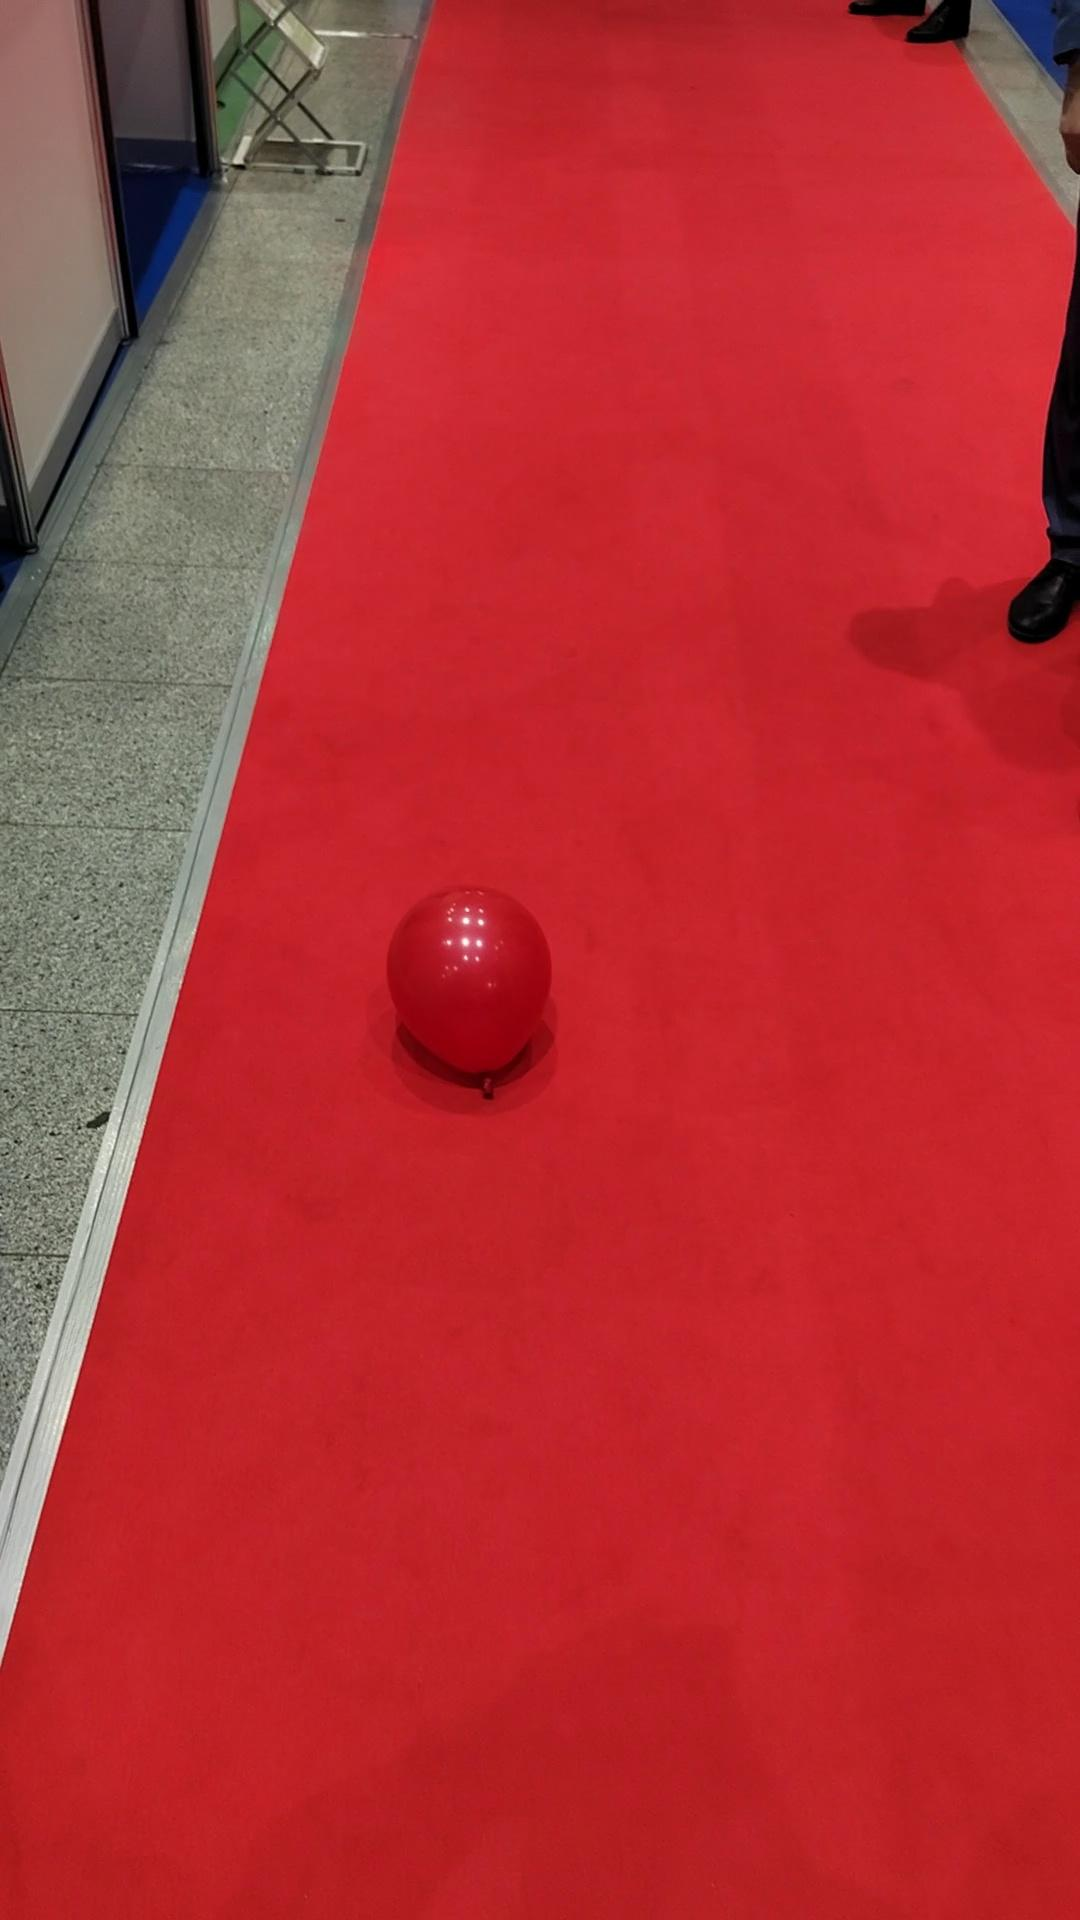red: (386, 889, 553, 1084)
